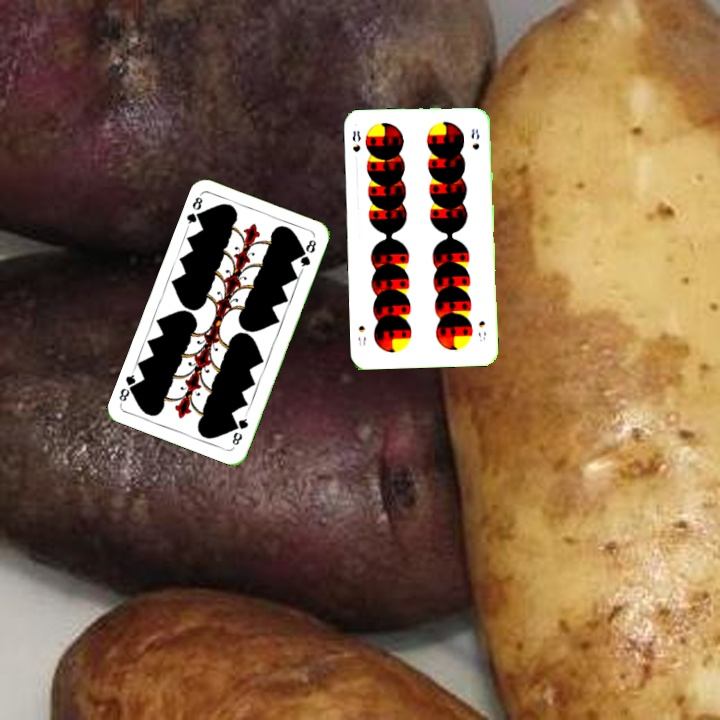G8: (182, 191, 206, 230), (228, 411, 251, 448)
S8: (348, 126, 363, 155), (474, 317, 489, 344)
